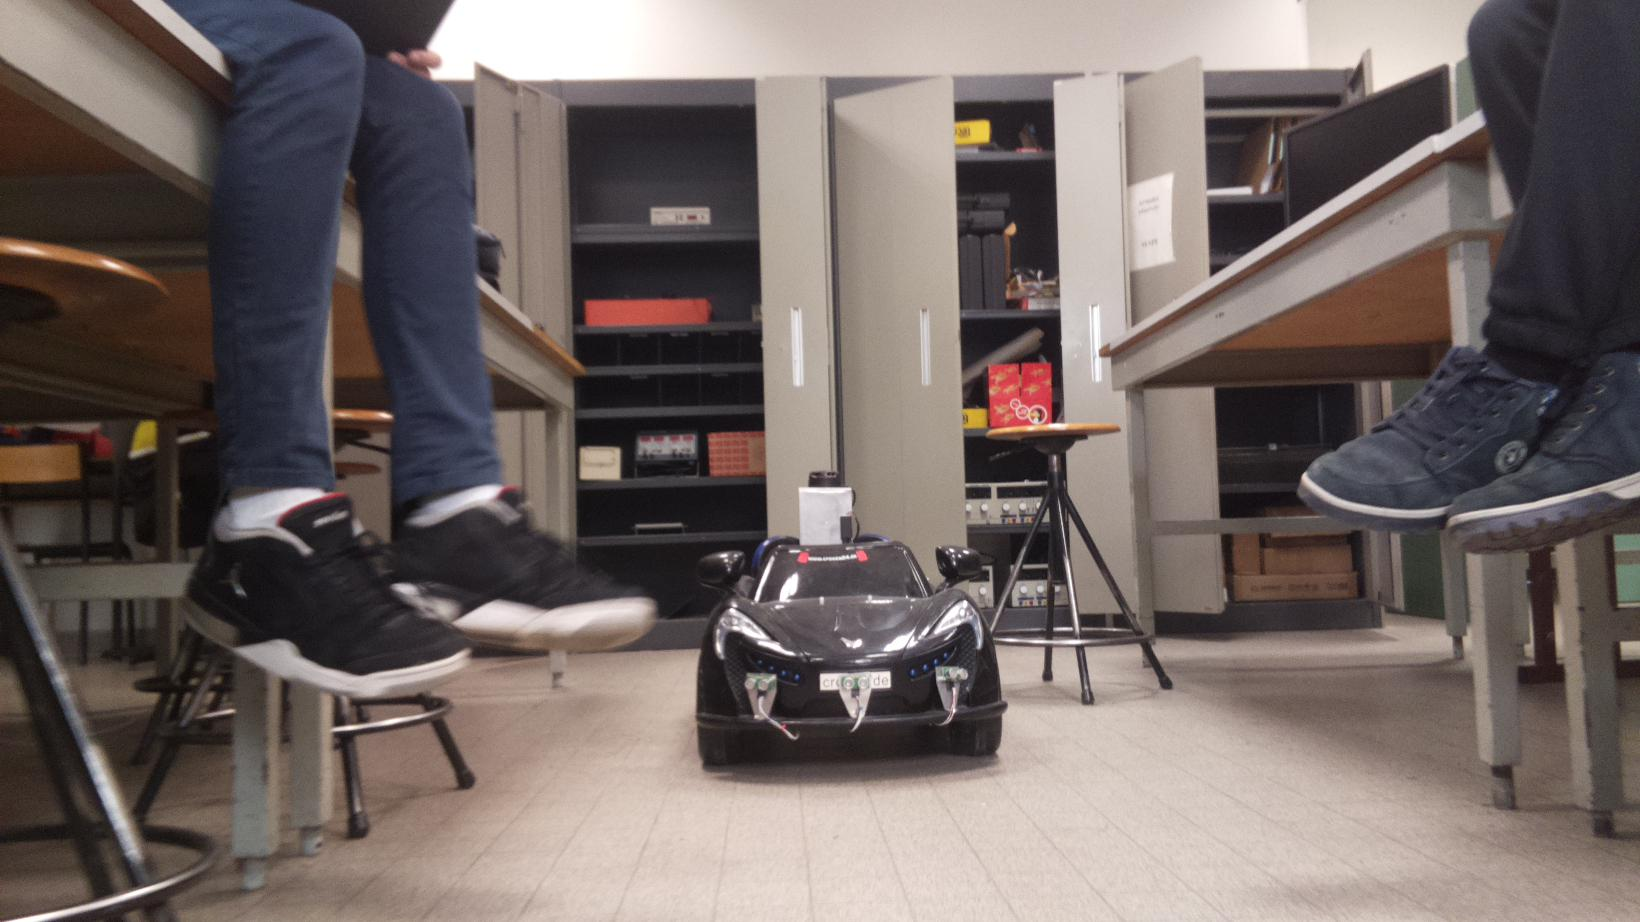big: (689, 469, 1011, 764)
